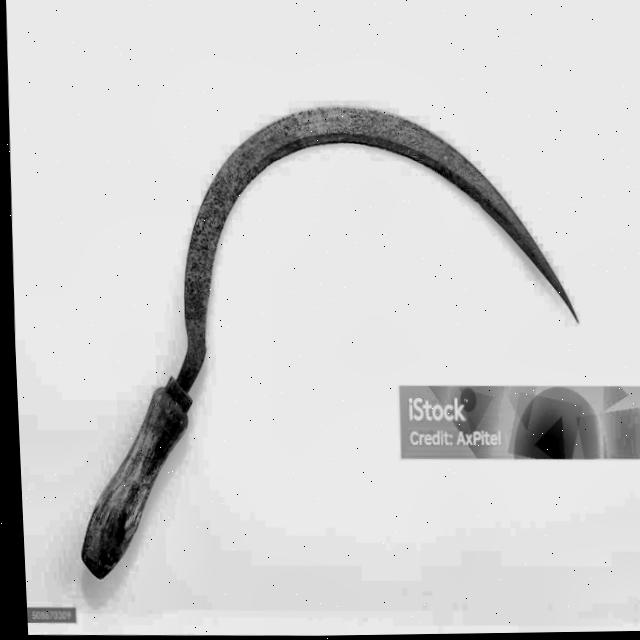celurit: (73, 75, 590, 589)
